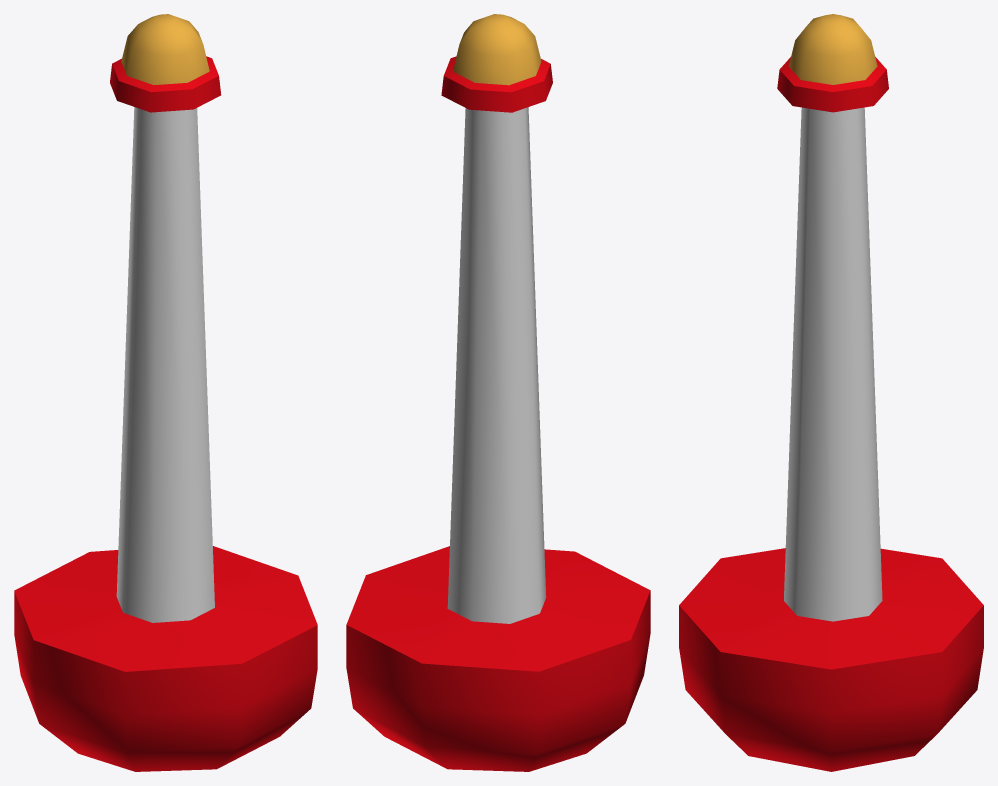
File: Şamandıra.fbx
The picture shows the model from 3 angles, left to right: view 1: azimuth 30°, elevation 25°; view 2: azimuth 150°, elevation 25°; view 3: azimuth 270°, elevation 25°; orthographic projection.
Parts seen in each view (by area): view 1: samandira; view 2: samandira; view 3: samandira.
Boxes of the visible parts, x1,y1,x2,y2 form: samandira: [14, 14, 317, 771]; samandira: [346, 14, 650, 771]; samandira: [679, 14, 983, 771].
Bounding box in the file's own units: 183 × 483 × 183.
